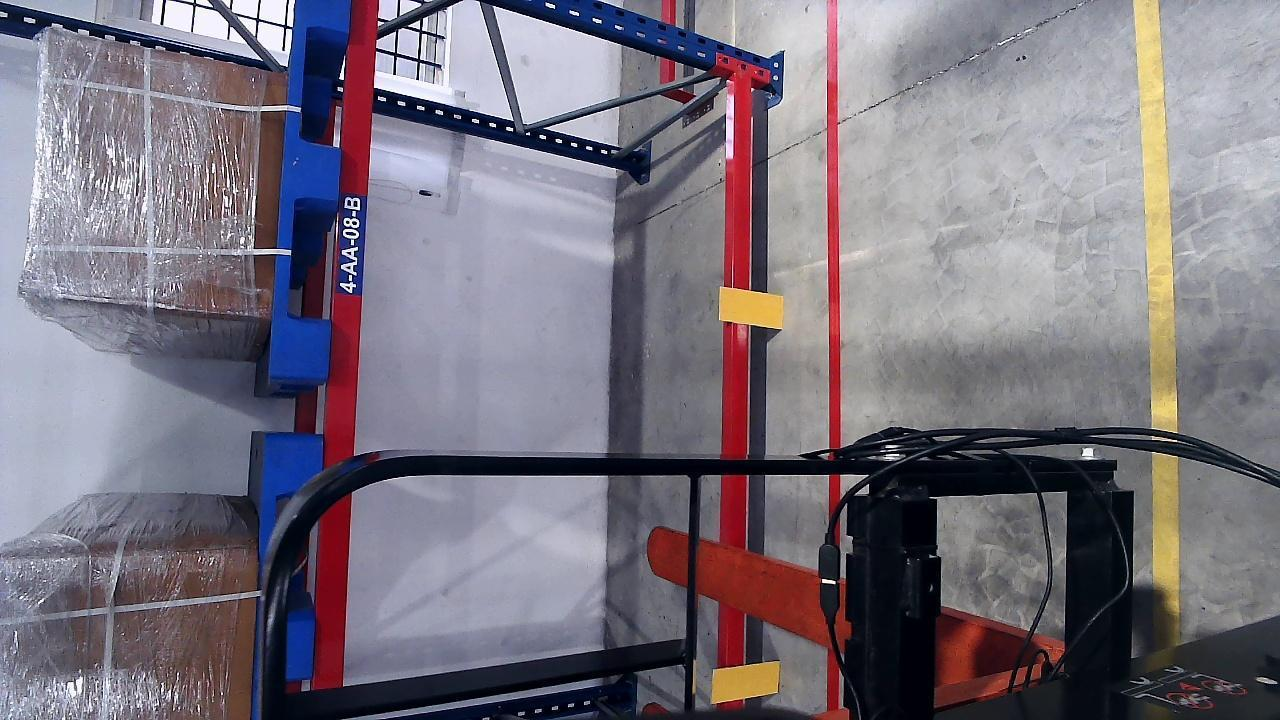red_line: (815, 0, 844, 424)
yellow_line: (1139, 0, 1180, 576)
